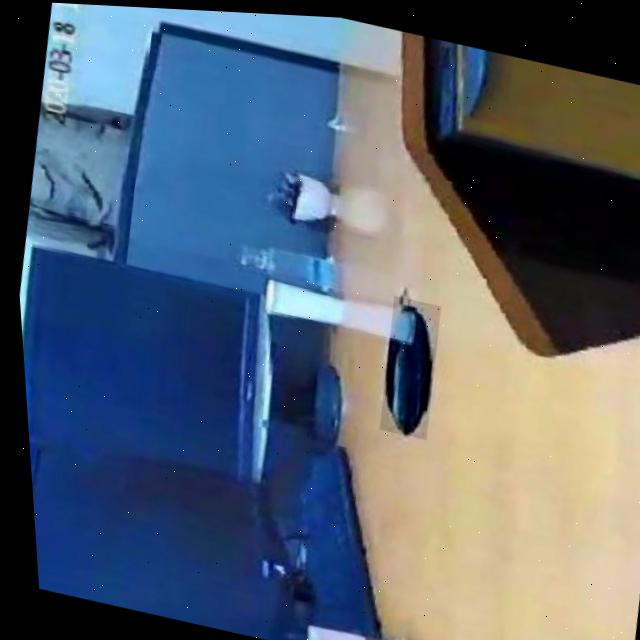spillage: (380, 293, 429, 430)
